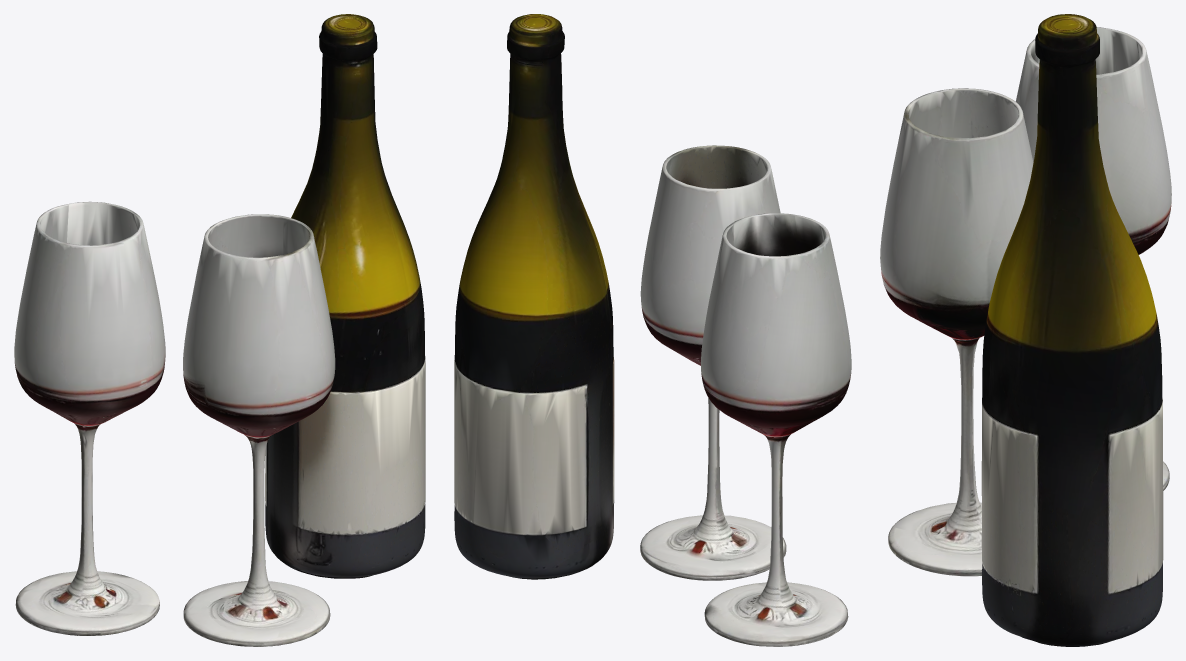
The model's file is flute.glb.
3 renders of one model, left to right at view 1: azimuth 30°, elevation 25°; view 2: azimuth 150°, elevation 25°; view 3: azimuth 270°, elevation 25°, orthographic. The views are drawn at different scales.
Visible parts, largest first — view 1: node_0; view 2: node_0; view 3: node_0.
Boxes of the visible parts, x1,y1,x2,y2 form: node_0: (14, 14, 425, 646); node_0: (454, 14, 851, 646); node_0: (880, 14, 1171, 646).
Size of the model in its own units: 0.7179 by 0.9439 by 0.422.
Materials: 1 (1 with a texture image).
